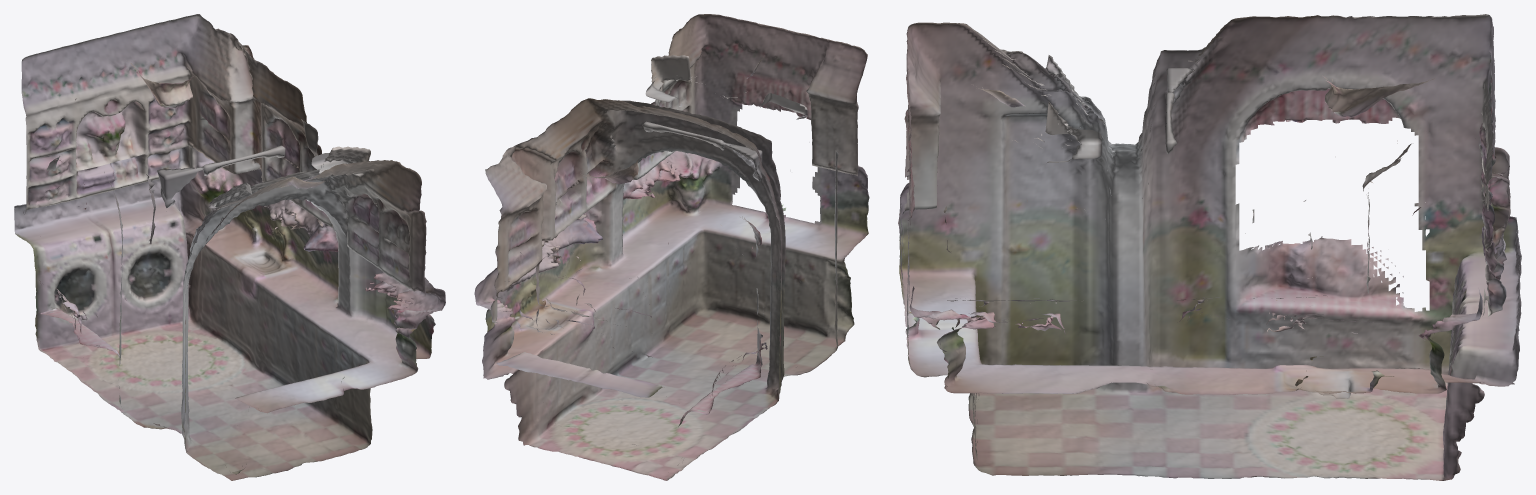
File: lavender-laundry-1-1_collider.glb
3 renders of one model, left to right at view 1: azimuth 30°, elevation 25°; view 2: azimuth 150°, elevation 25°; view 3: azimuth 270°, elevation 25°, orthographic. The views are drawn at different scales.
Parts seen in each view (by area): view 1: world; view 2: world; view 3: world.
Boxes of the visible parts, left/top/right/bottom form: world: left=14, top=14, right=445, bottom=480; world: left=474, top=14, right=869, bottom=480; world: left=898, top=14, right=1521, bottom=480.
Bounding box in the file's own units: 2.56 × 3.05 × 4.6.
